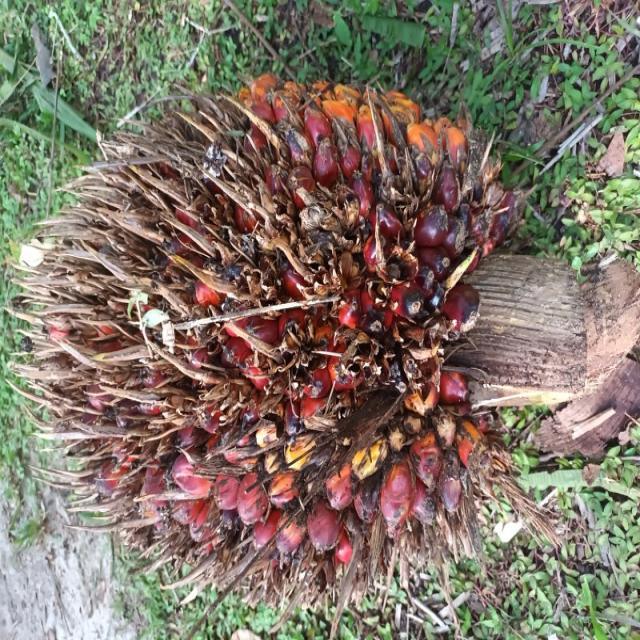fraksi 3: (0, 30, 466, 640)
